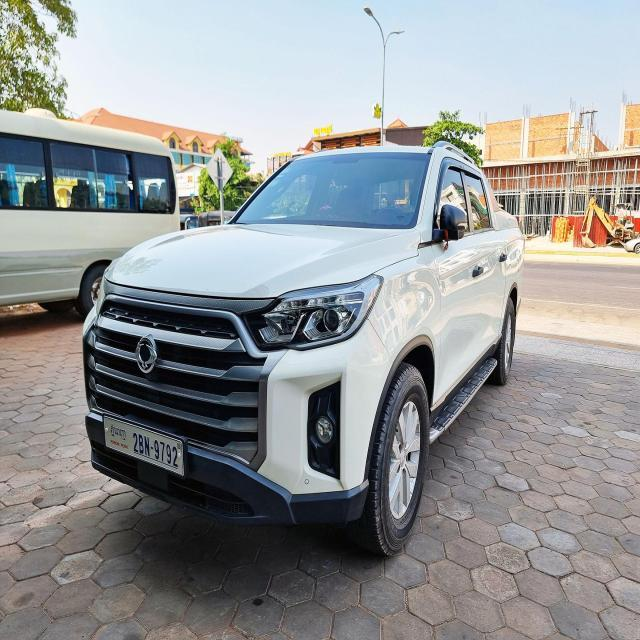Phnom_Penh: (110, 423, 128, 441)
